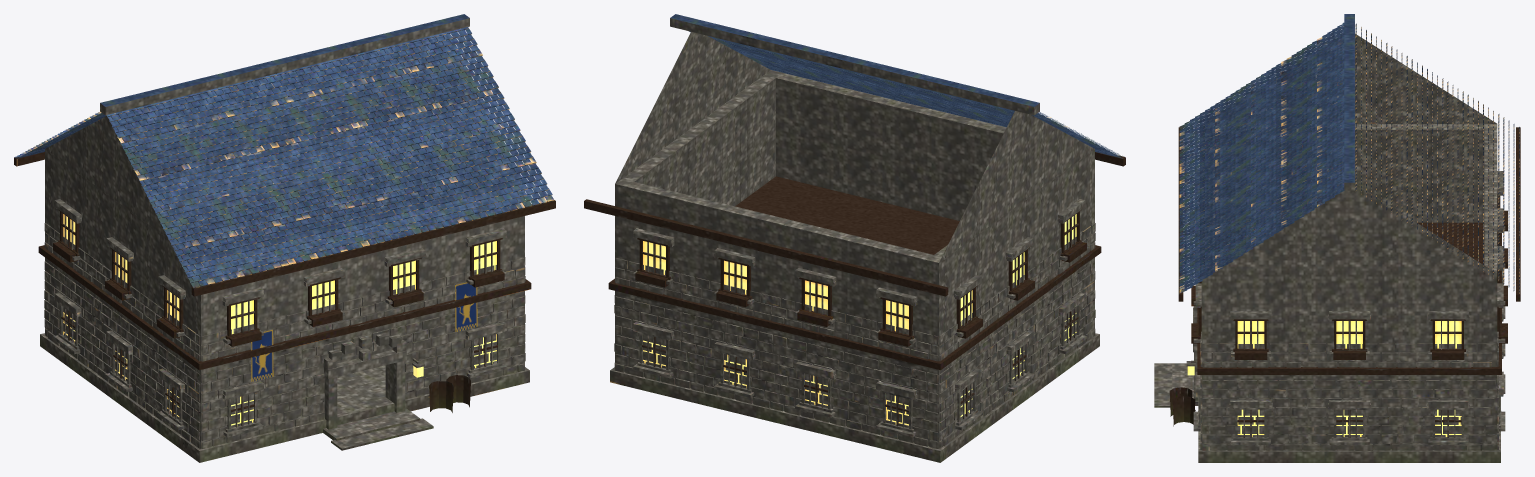
File: bld_treasury_card.glb
3 views of the same model, side by side, from view 1: azimuth 30°, elevation 25°; view 2: azimuth 150°, elevation 25°; view 3: azimuth 270°, elevation 25° (orthographic). The views are drawn at different scales.
Visible parts, largest first — view 1: treasury_card; view 2: treasury_card; view 3: treasury_card.
Boxes of the visible parts, x1,y1,x2,y2 form: treasury_card: (14, 14, 555, 462); treasury_card: (584, 14, 1125, 462); treasury_card: (1154, 14, 1520, 462).
Size of the model in its own units: 22.95 by 18.27 by 21.05.
Materials: 1 (1 with a texture image).
